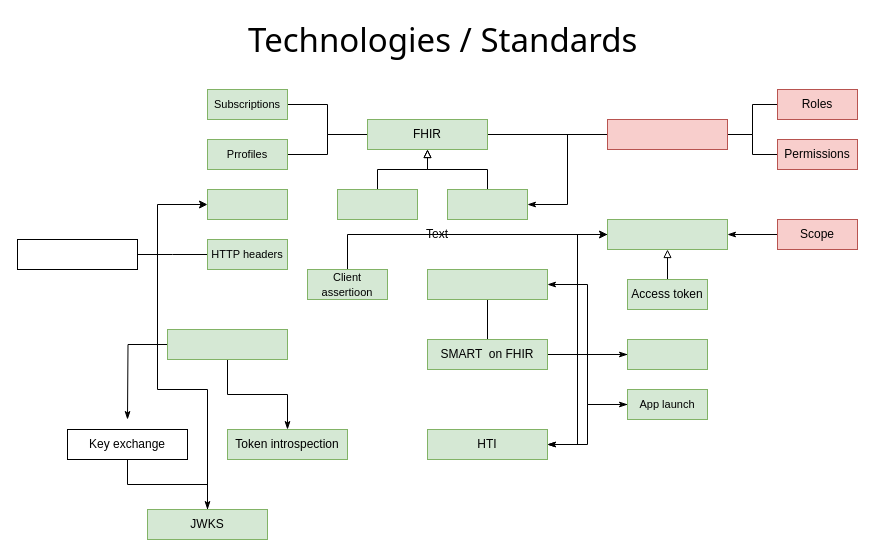
Some shapes in this 875 by 557 pixel diagram are drawn without their labels. Here are the shapes that lost their labels. From the top down, the box of each, then its label:
(606, 118, 728, 150): Permission model
(206, 188, 288, 220): Conformance statement
(336, 188, 418, 220): FHIR Api
(446, 188, 528, 220): FHIR Resources
(16, 238, 138, 270): Logging
(606, 218, 728, 250): JWT
(426, 268, 548, 300): OAuth 2
(166, 328, 288, 360): public / private keys
(626, 338, 708, 370): SMART backed services
